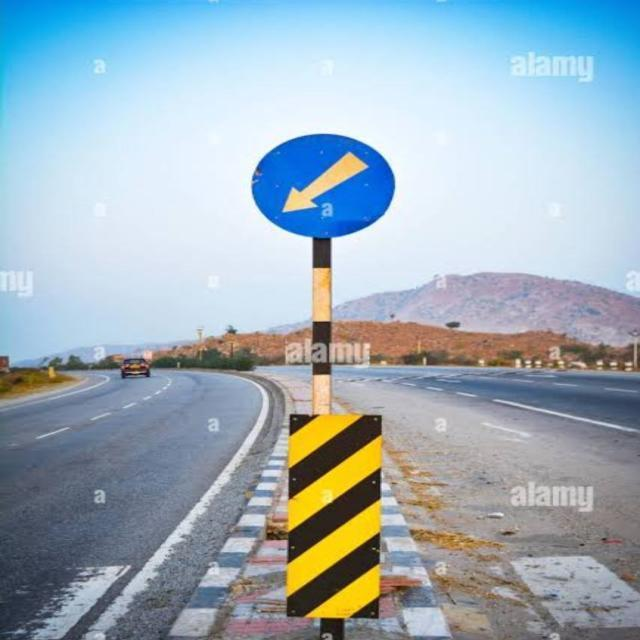compulsary keep left: (243, 122, 400, 243)
